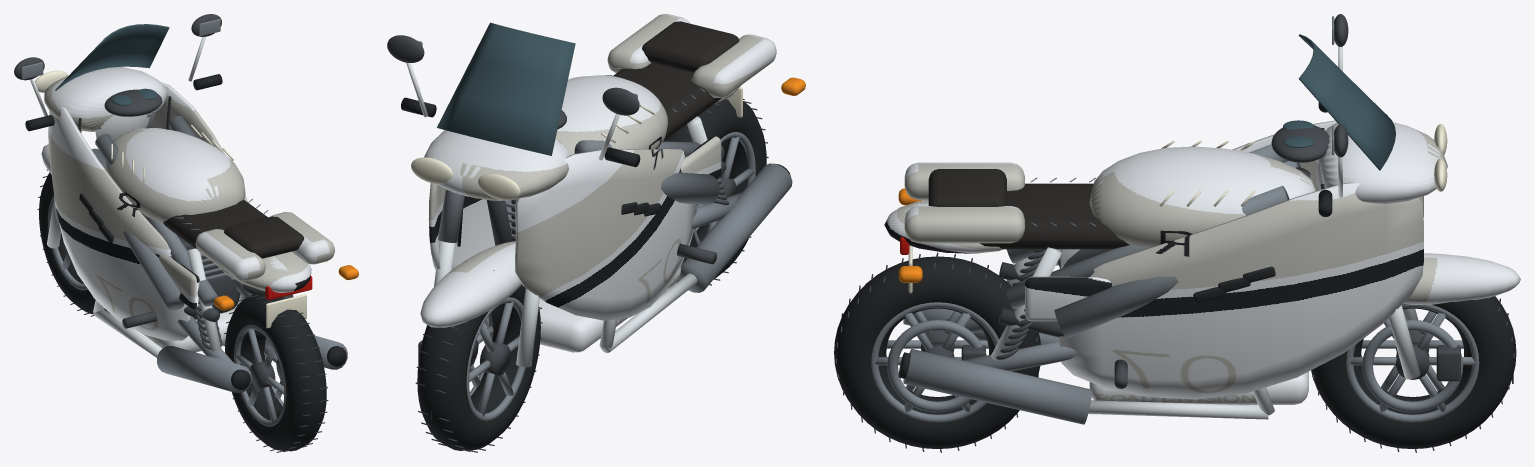
File: phantom.glb
The picture shows the model from 3 angles, left to right: view 1: azimuth 30°, elevation 25°; view 2: azimuth 150°, elevation 25°; view 3: azimuth 270°, elevation 25°; orthographic projection. The views are drawn at different scales.
Parts seen in each view (by area): view 1: Paint, Rubber.001, Brushed steel, Seat leather, Engine, Chrome, Glass, Brushed steel.001, Rubber.002, Rubber, Headlight, Engine.001 (+2 smaller); view 2: Paint, Glass, Rubber.002, Brushed steel, Seat leather, Chrome, Engine, Rubber.001, Brushed steel.002, Headlight, Rubber, Engine.002 (+1 smaller); view 3: Paint, Rubber.001, Brushed steel, Rubber.002, Seat leather, Brushed steel.002, Brushed steel.001, Chrome, Engine, Glass, Rubber, Headlight (+2 smaller).
Boxes of the visible parts, x1,y1,x2,y2 form: Paint: (41, 67, 334, 352); Rubber.001: (225, 292, 326, 451); Brushed steel: (21, 18, 347, 392); Seat leather: (163, 199, 304, 258); Engine: (14, 14, 293, 349); Chrome: (30, 36, 221, 357); Glass: (55, 24, 169, 105); Brushed steel.001: (234, 324, 286, 426); Rubber.002: (39, 172, 110, 314); Rubber: (25, 74, 346, 389); Headlight: (35, 66, 306, 328); Engine.001: (223, 292, 328, 452); Paint: (420, 14, 776, 352); Glass: (437, 22, 575, 155); Rubber.002: (417, 285, 540, 450); Brushed steel: (417, 40, 792, 292); Seat leather: (613, 21, 739, 140); Chrome: (406, 62, 727, 367); Engine: (387, 35, 729, 363); Rubber.001: (663, 98, 766, 281); Brushed steel.002: (466, 297, 525, 420); Headlight: (411, 87, 742, 200); Rubber: (401, 97, 790, 246); Engine.002: (415, 262, 542, 452); Paint: (884, 120, 1520, 404); Rubber.001: (834, 256, 1040, 448); Brushed steel: (903, 16, 1334, 424); Rubber.002: (1311, 296, 1516, 448); Seat leather: (928, 169, 1129, 249); Brushed steel.002: (1346, 304, 1479, 422); Brushed steel.001: (871, 302, 999, 422); Chrome: (991, 46, 1420, 419); Engine: (961, 14, 1460, 388); Glass: (1283, 34, 1395, 170); Rubber: (898, 102, 1332, 378); Headlight: (908, 124, 1447, 293).
Size of the model in its own units: 1.02 by 1.46 by 2.28.
10 materials, 1 textured.
